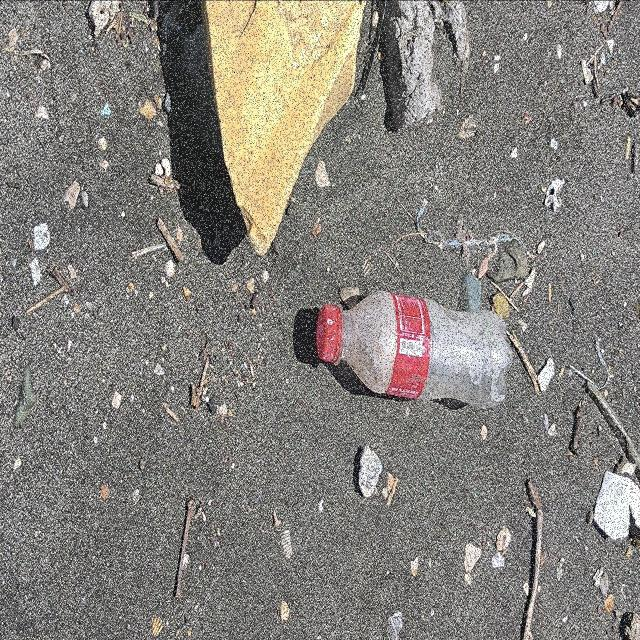plastic_waste: (317, 290, 515, 408)
